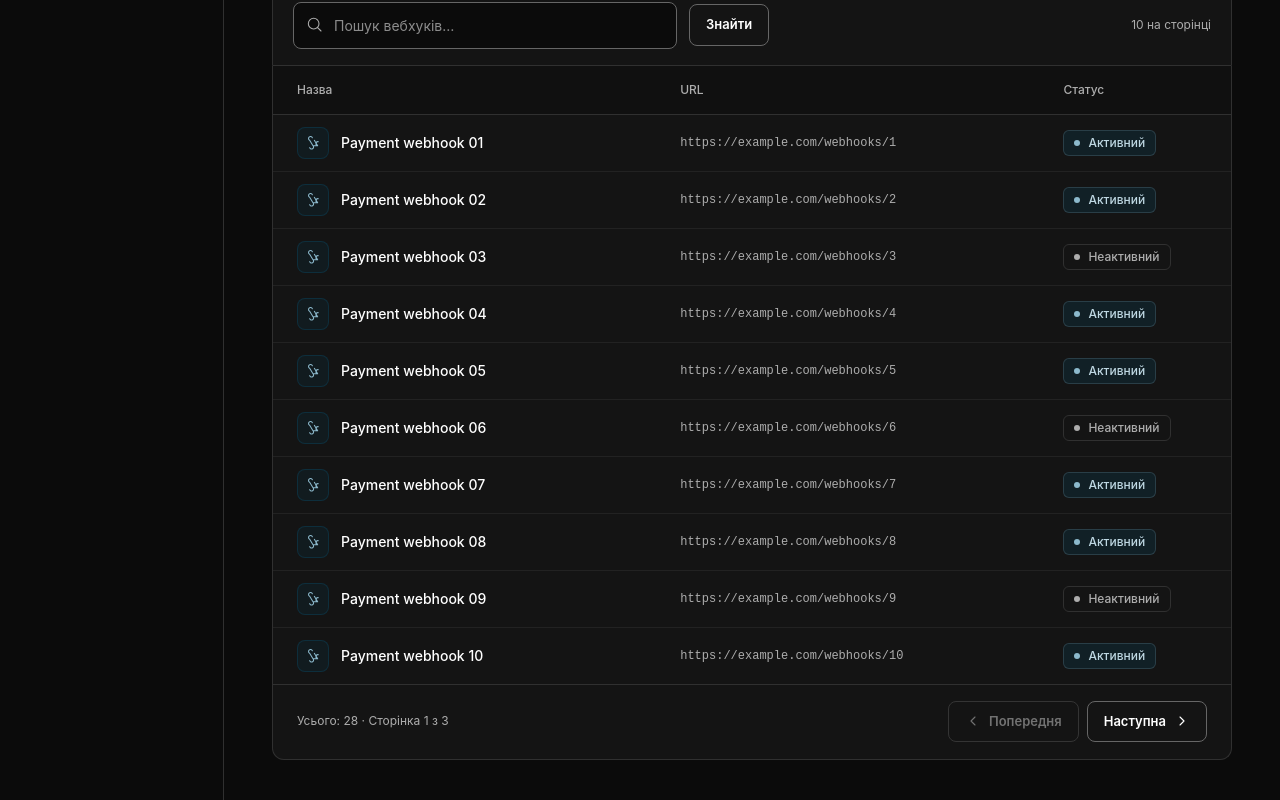
Scenario: shows ten rows per page, their status/URL, and the eight-row last page
(page scrolled)
Expected: the link "Payment webhook 01" is shown, left=297, top=127, right=509, bottom=159
Expected: the text "https://example.com/webhooks/1" is shown, left=656, top=115, right=1039, bottom=171
Click the button "Наступна" at (1147, 721), box left=1087, top=701, right=1207, bottom=742
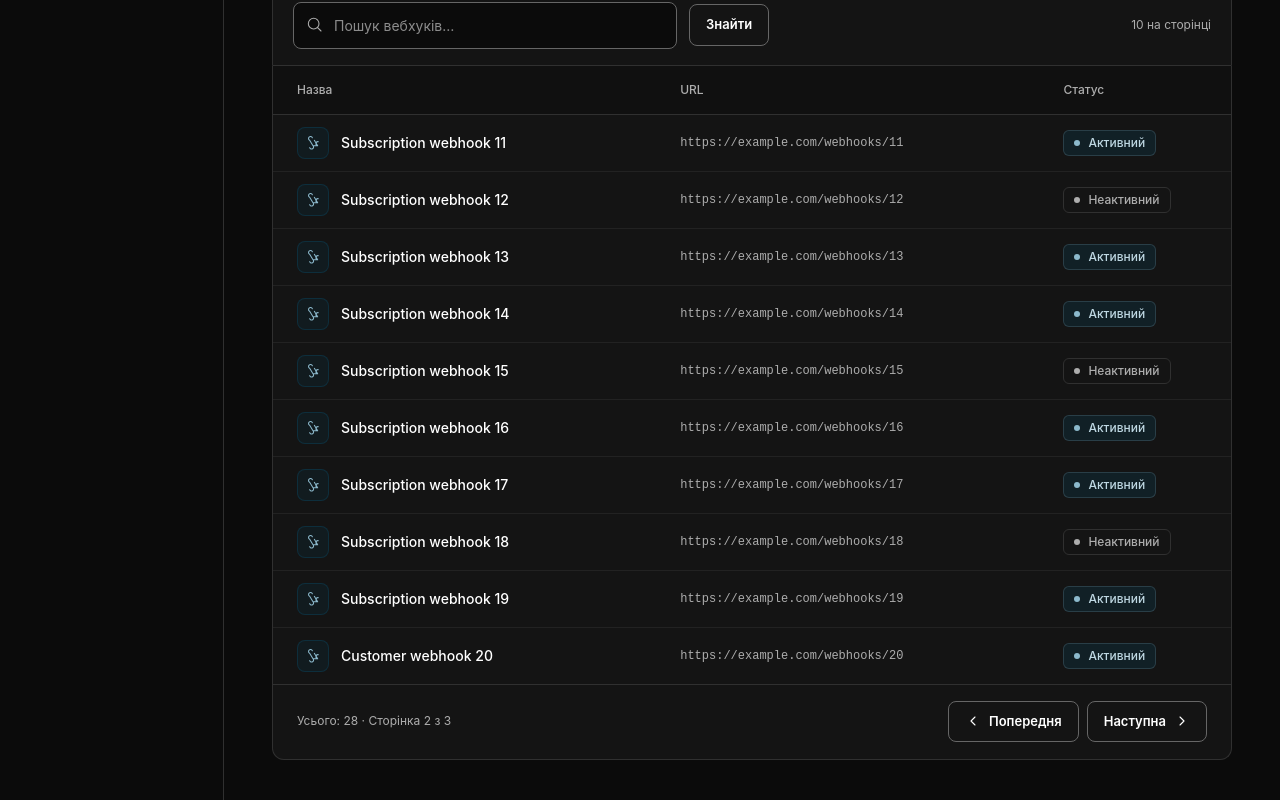
Expected: the link "Subscription webhook 11" is shown, left=297, top=127, right=532, bottom=159
Click the button "Наступна" at (1147, 721), box left=1087, top=701, right=1207, bottom=742
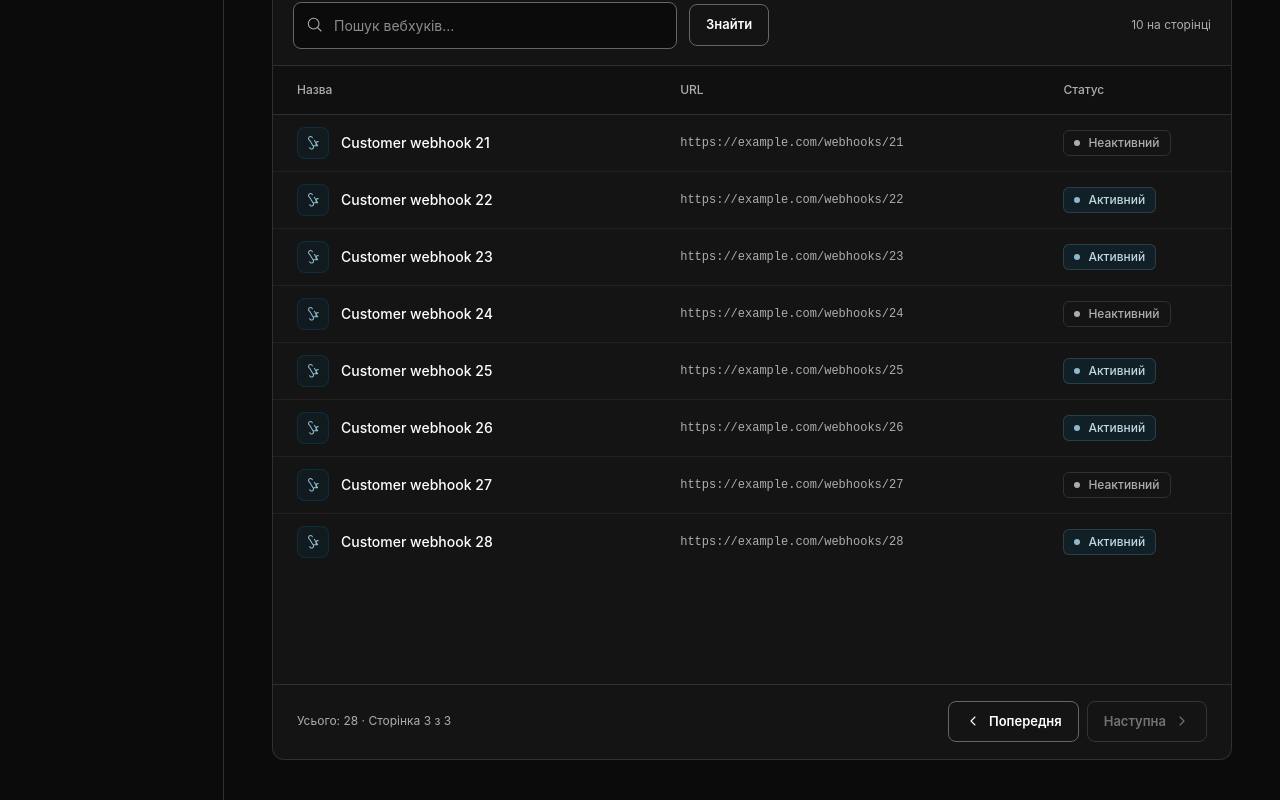
Expected: the link "Customer webhook 21" is shown, left=297, top=127, right=516, bottom=159
Expected: the text "Усього: 28 · Сторінка 3 з 3" is shown, left=297, top=713, right=451, bottom=729
Expected: the button "Наступна" is disabled, left=1087, top=701, right=1207, bottom=742
